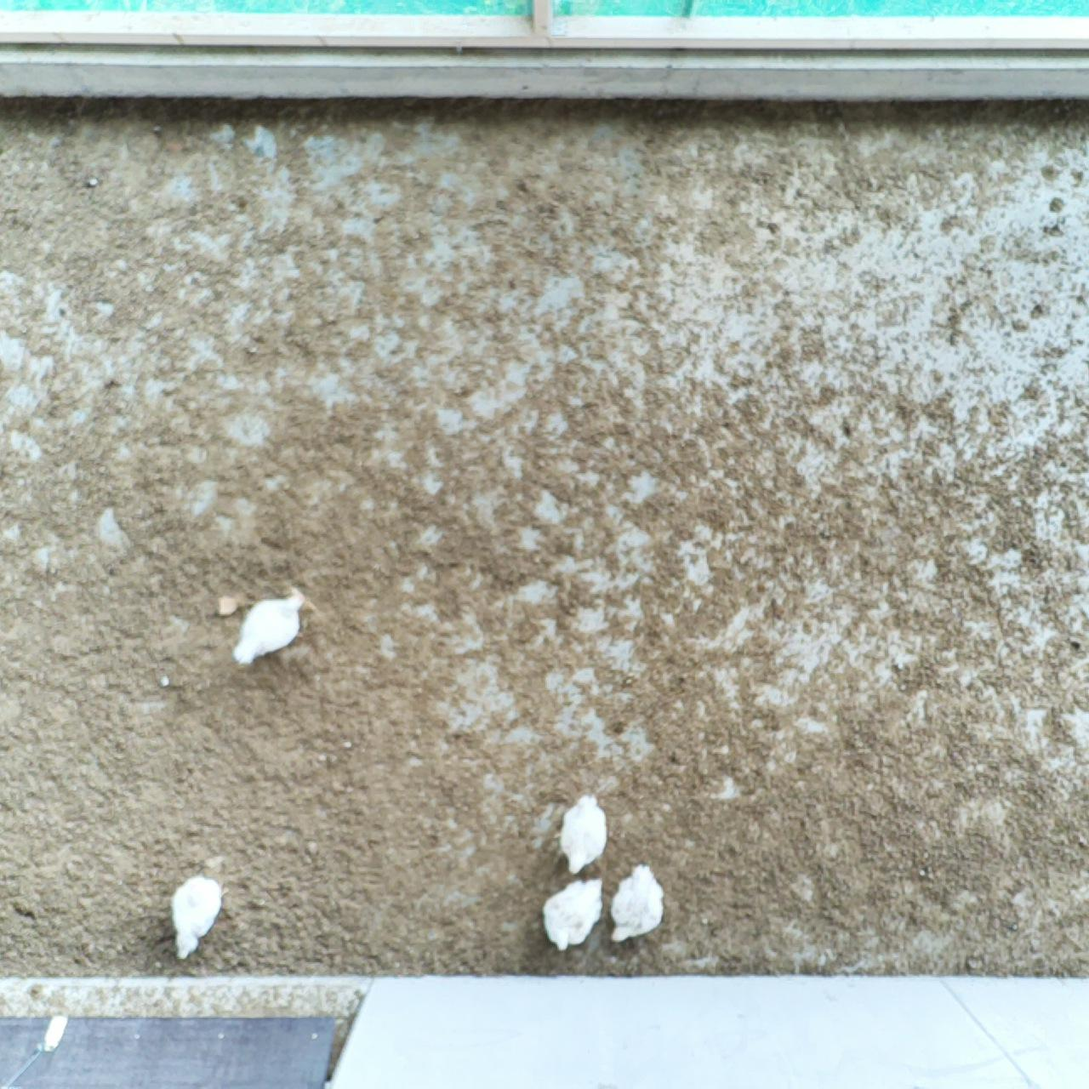chicken: (220, 583, 312, 669), (164, 872, 229, 962), (606, 859, 671, 947), (537, 875, 609, 954), (552, 787, 612, 877)
